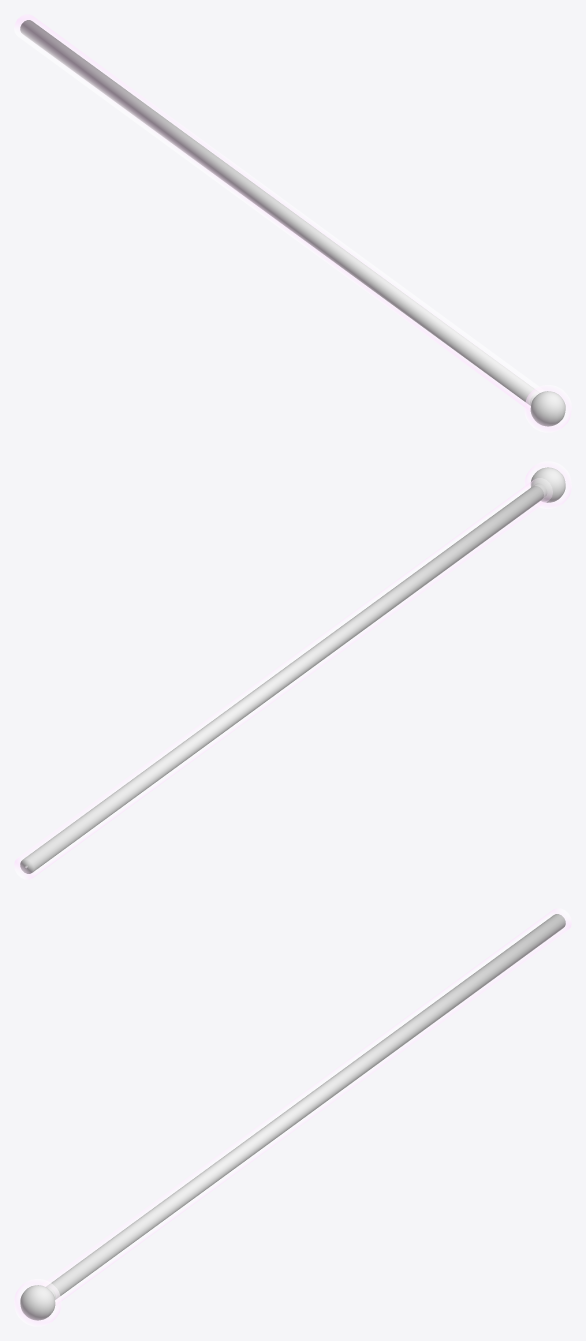
File: EnemyBeam.fbx
The picture shows the model from 3 angles, top to bottom: view 1: azimuth 30°, elevation 25°; view 2: azimuth 150°, elevation 25°; view 3: azimuth 330°, elevation 25°; orthographic projection.
Visible parts, largest first — view 1: beam, beam_center; view 2: beam, beam_center; view 3: beam, beam_center.
Part boxes in pixels (bbox=[...]): beam: bbox=[14, 14, 544, 410]; beam_center: bbox=[524, 385, 571, 432]; beam: bbox=[14, 478, 552, 879]; beam_center: bbox=[524, 461, 571, 508]; beam: bbox=[41, 908, 571, 1304]; beam_center: bbox=[14, 1279, 61, 1326].
Bounding box in the file's own units: 230 × 230 × 5125.
